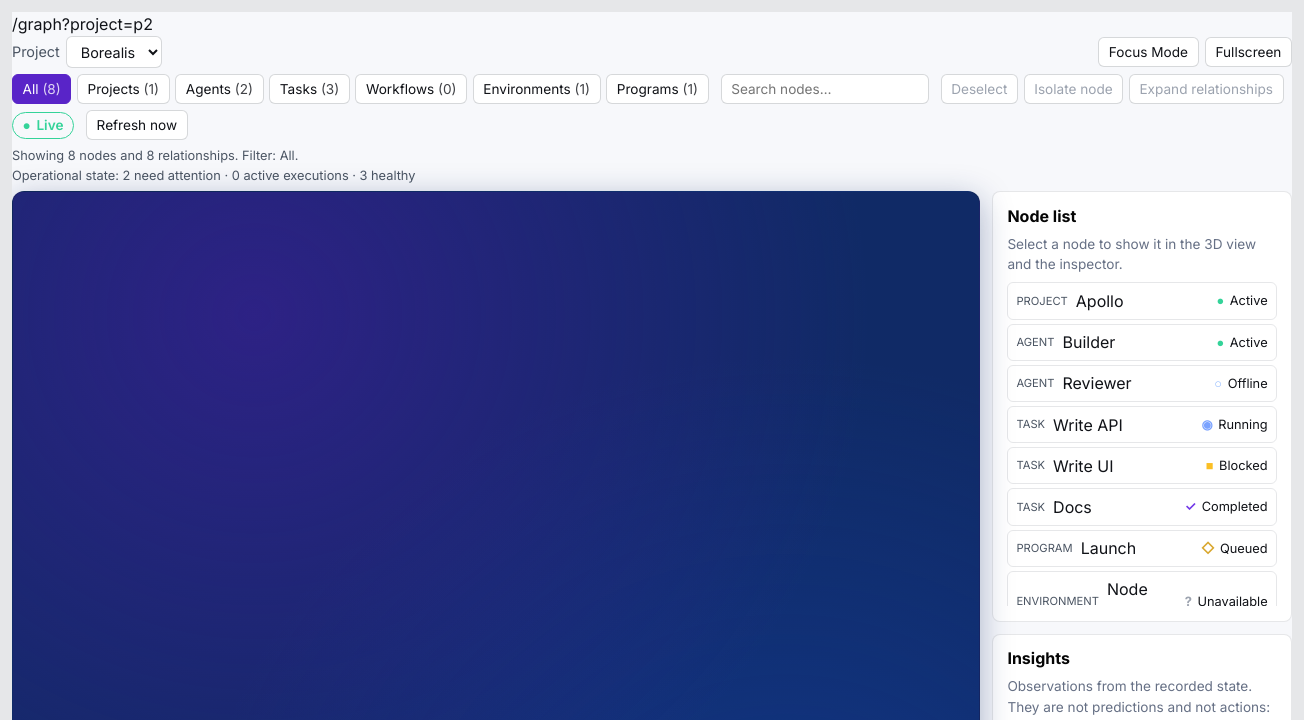
SpatialGraphPage › project selection › honours a valid ?project= and writes the choice to the URL
Select "Apollo" in the dropdown labelled "Project" at [114, 52], box [66, 36, 162, 68]
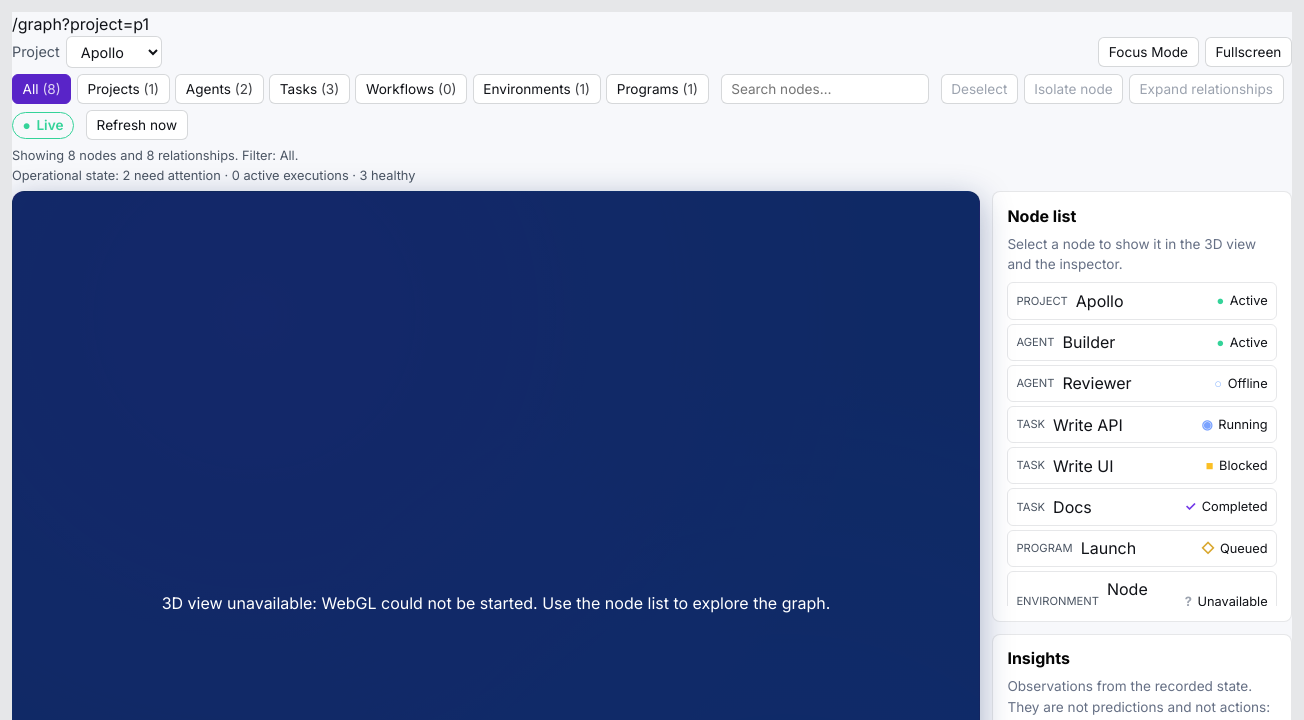
Check: the text with test id "where" shows "project=p1", box [12, 14, 149, 34]
